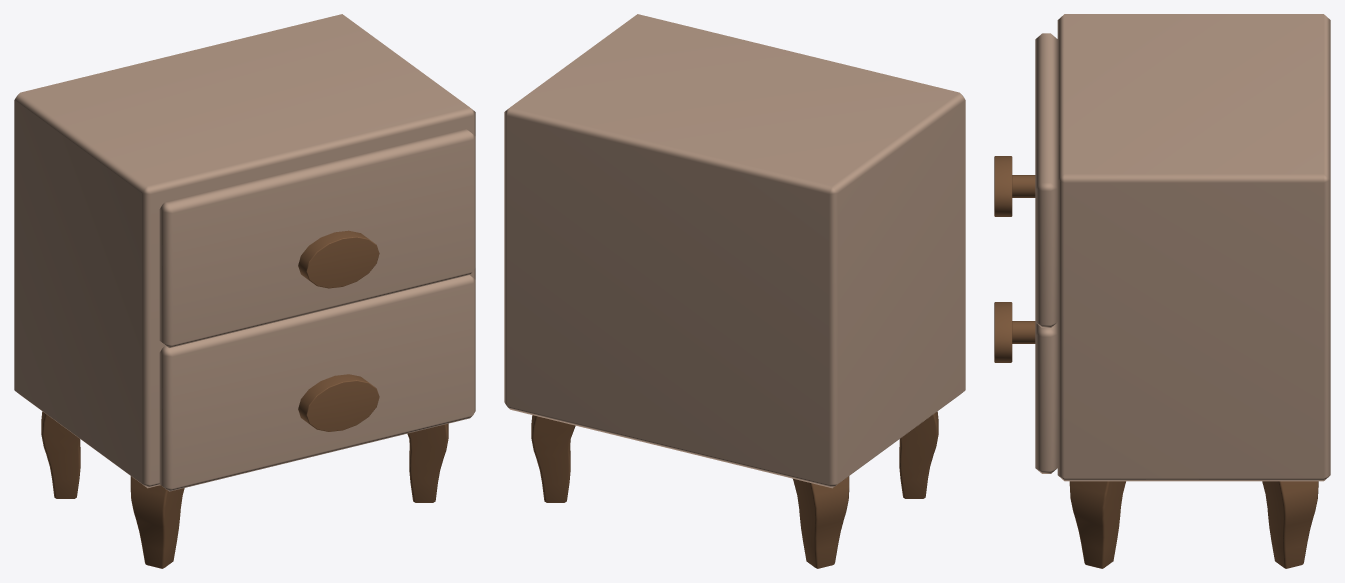
The model's file is Cabinet_12.glb.
The picture shows the model from 3 angles, left to right: view 1: azimuth 30°, elevation 25°; view 2: azimuth 150°, elevation 25°; view 3: azimuth 270°, elevation 25°; orthographic projection.
Visible parts, largest first — view 1: Cabinet_12; view 2: Cabinet_12; view 3: Cabinet_12.
Boxes of the visible parts, <box> form: Cabinet_12: <box>14,14,475,568</box>; Cabinet_12: <box>504,14,965,568</box>; Cabinet_12: <box>994,14,1330,568</box>.
Size of the model in its own units: 0.7936 by 0.9024 by 0.6809.
Materials: 1 (1 with a texture image).
